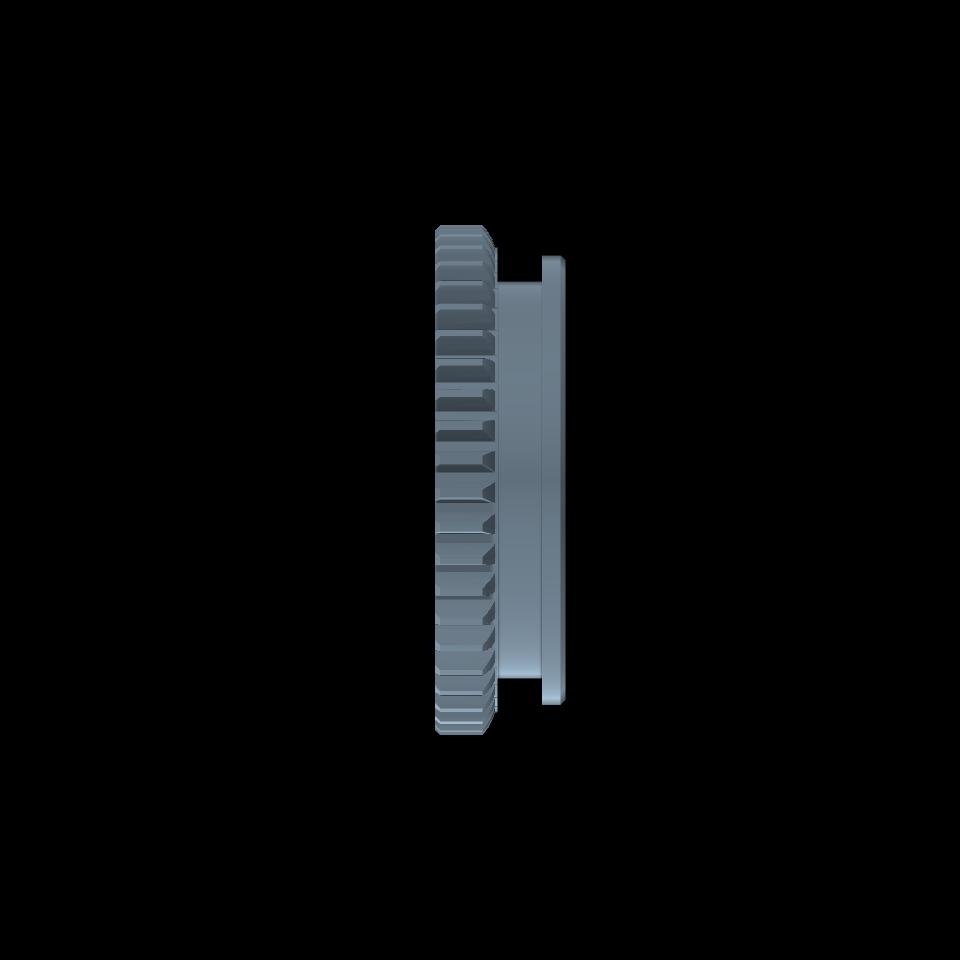Straight: (441, 225, 482, 735)
